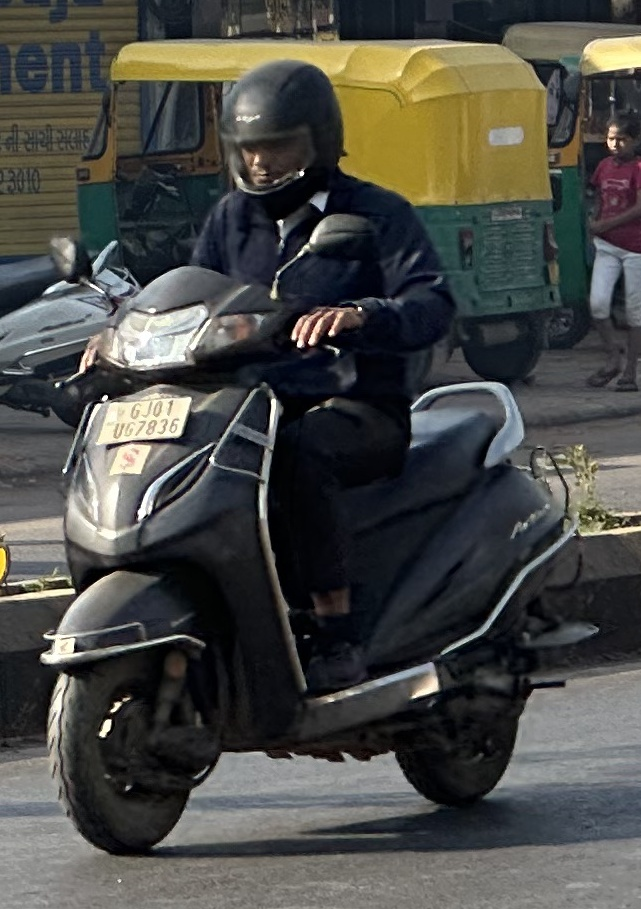BikeWithRider: (26, 45, 608, 866)
Helmet: (207, 49, 360, 219)
